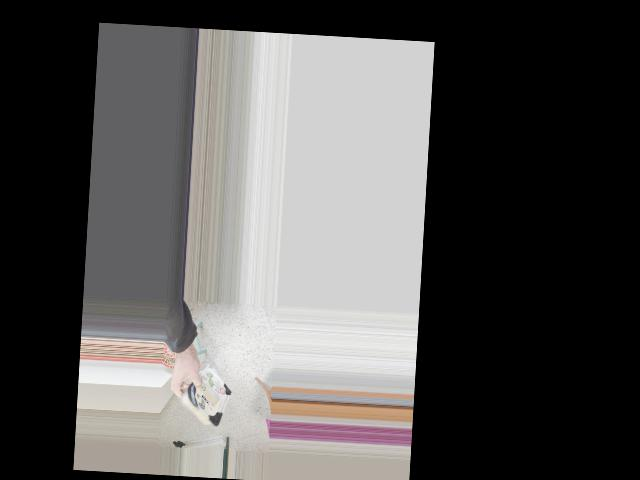cheese: (163, 368, 239, 427)
